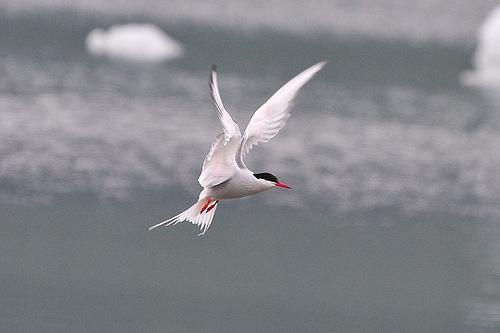bird: (145, 62, 322, 236)
